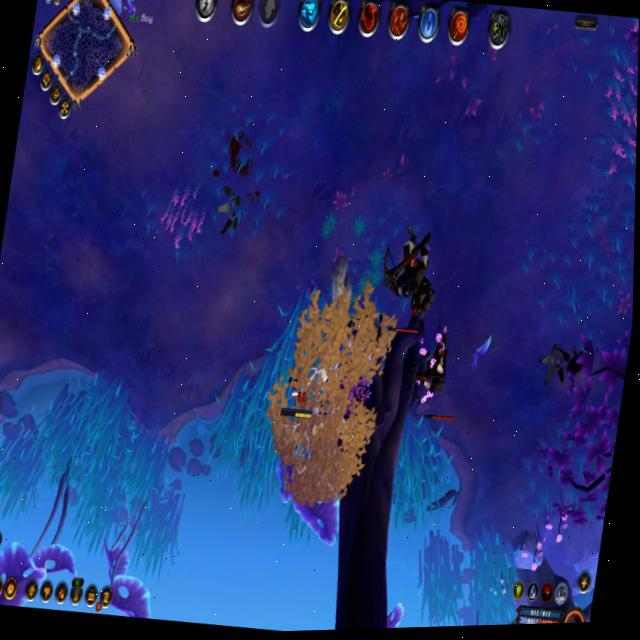ore: (371, 216, 449, 349), (414, 325, 468, 426)
red: (277, 350, 324, 426)
wisp caged: (253, 245, 403, 561)
